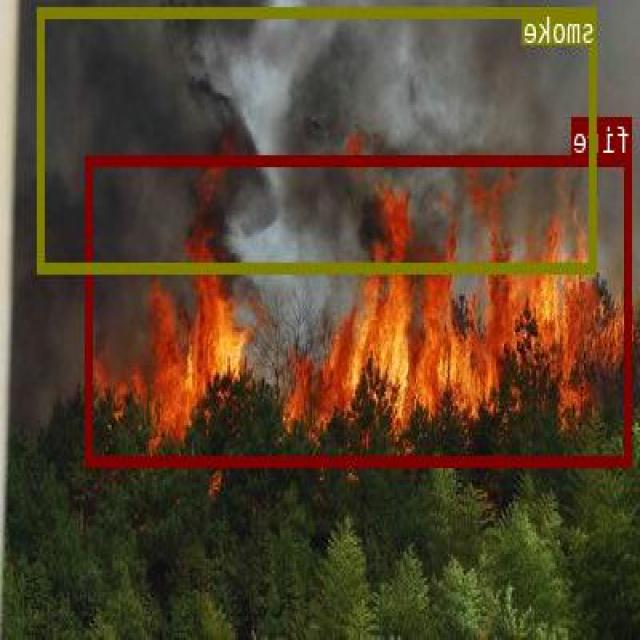fire: (87, 154, 634, 464)
smoke: (40, 6, 598, 272)
